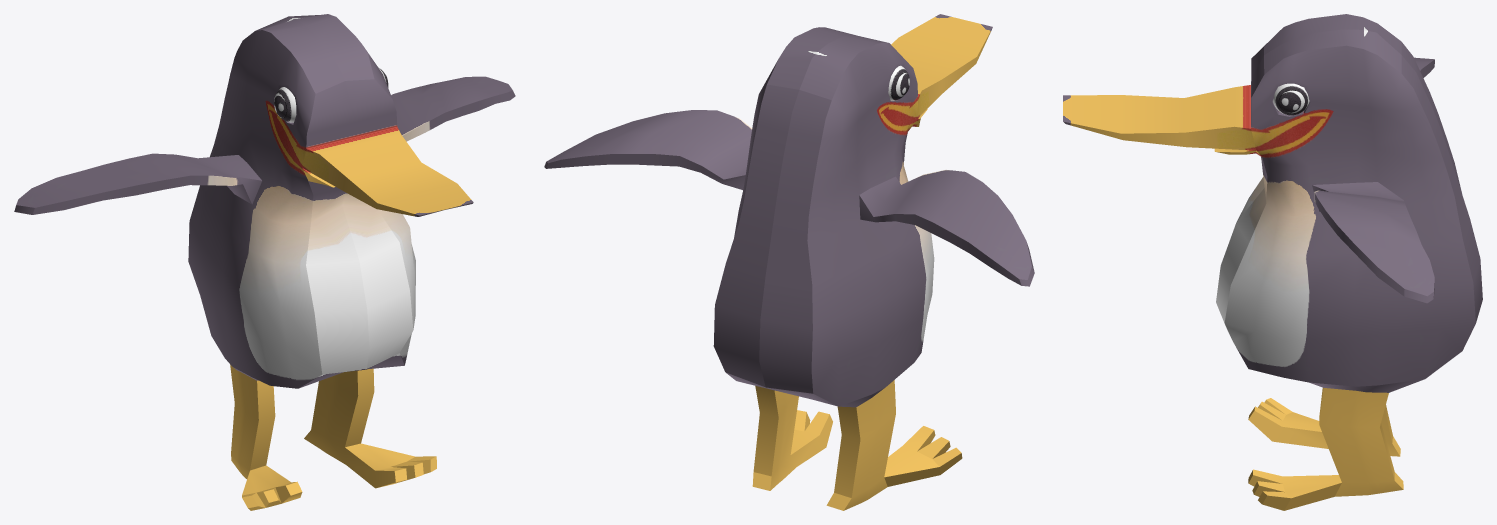
File: lenni-model.obj
3 views of the same model, side by side, from view 1: azimuth 30°, elevation 25°; view 2: azimuth 150°, elevation 25°; view 3: azimuth 270°, elevation 25° (orthographic). The views are drawn at different scales.
Visible parts, largest first — view 1: polySurface1; view 2: polySurface1; view 3: polySurface1.
Part boxes in pixels (x1,y1,x2,y2): polySurface1: (14, 14, 515, 510); polySurface1: (544, 14, 1034, 510); polySurface1: (1063, 14, 1482, 510).
Bounding box in the file's own units: 19.08 × 16.41 × 14.11.
2 materials, 2 textured.
